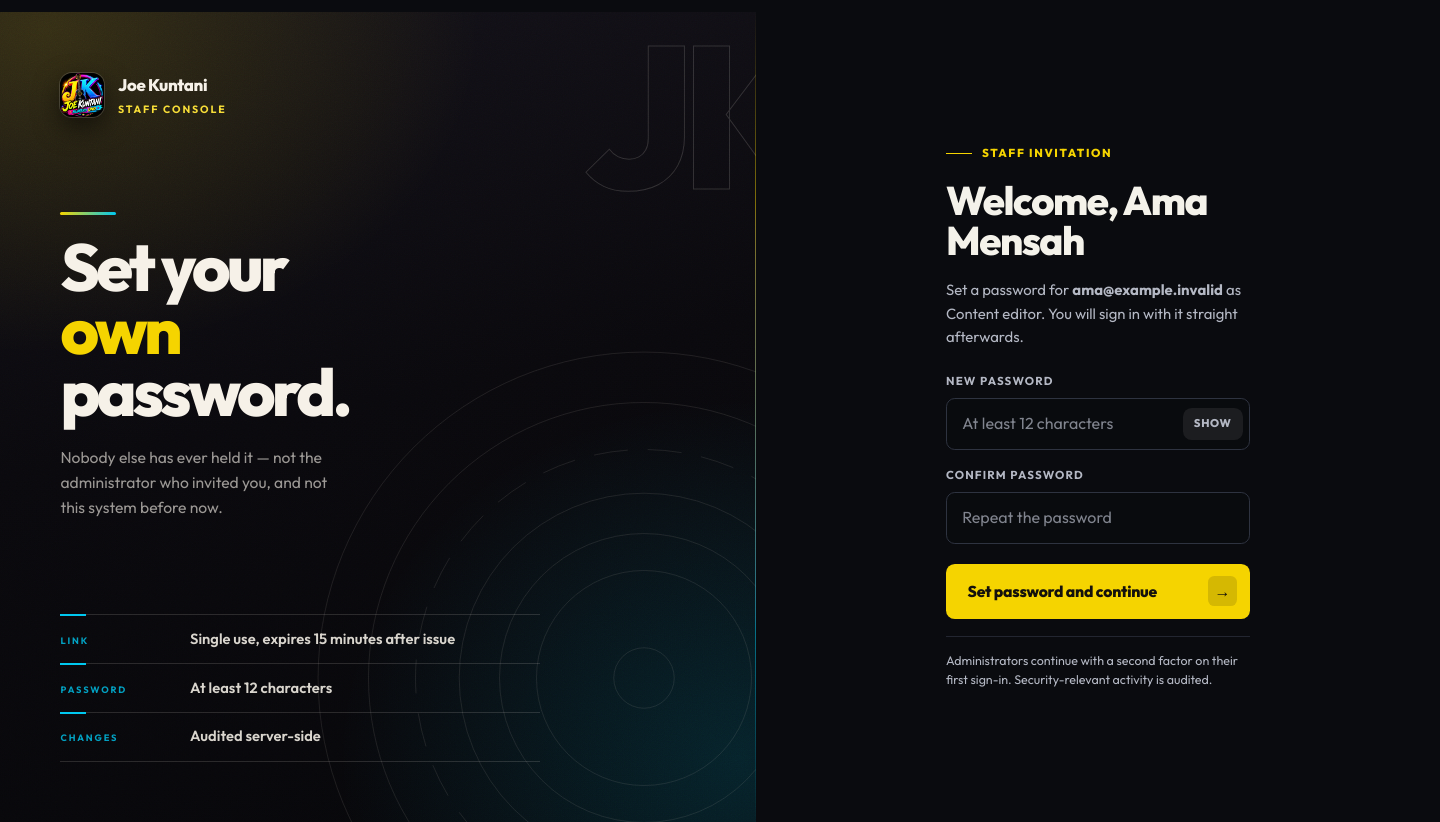
it: AcceptInviteForm › refuses to submit when the confirmation does not match
Expected: the heading "Welcome, Ama Mensah" is shown, left=946, top=180, right=1250, bottom=261
Type "correct horse battery" into the password field labelled "New password" at {"x": 1098, "y": 424}, box left=946, top=398, right=1250, bottom=450
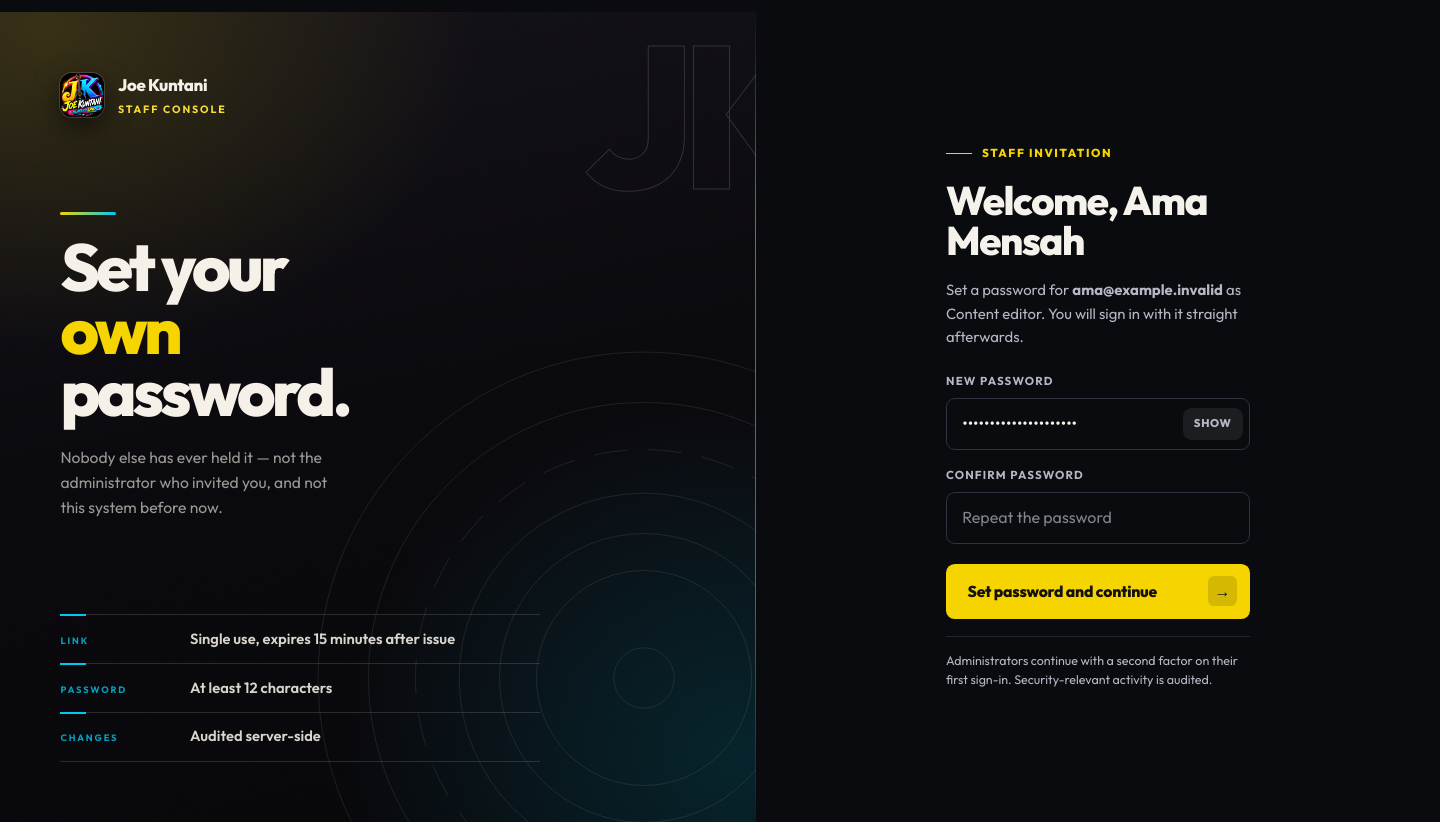
Type "a different password" into the password field labelled "Confirm password" at {"x": 1098, "y": 518}, box left=946, top=492, right=1250, bottom=544
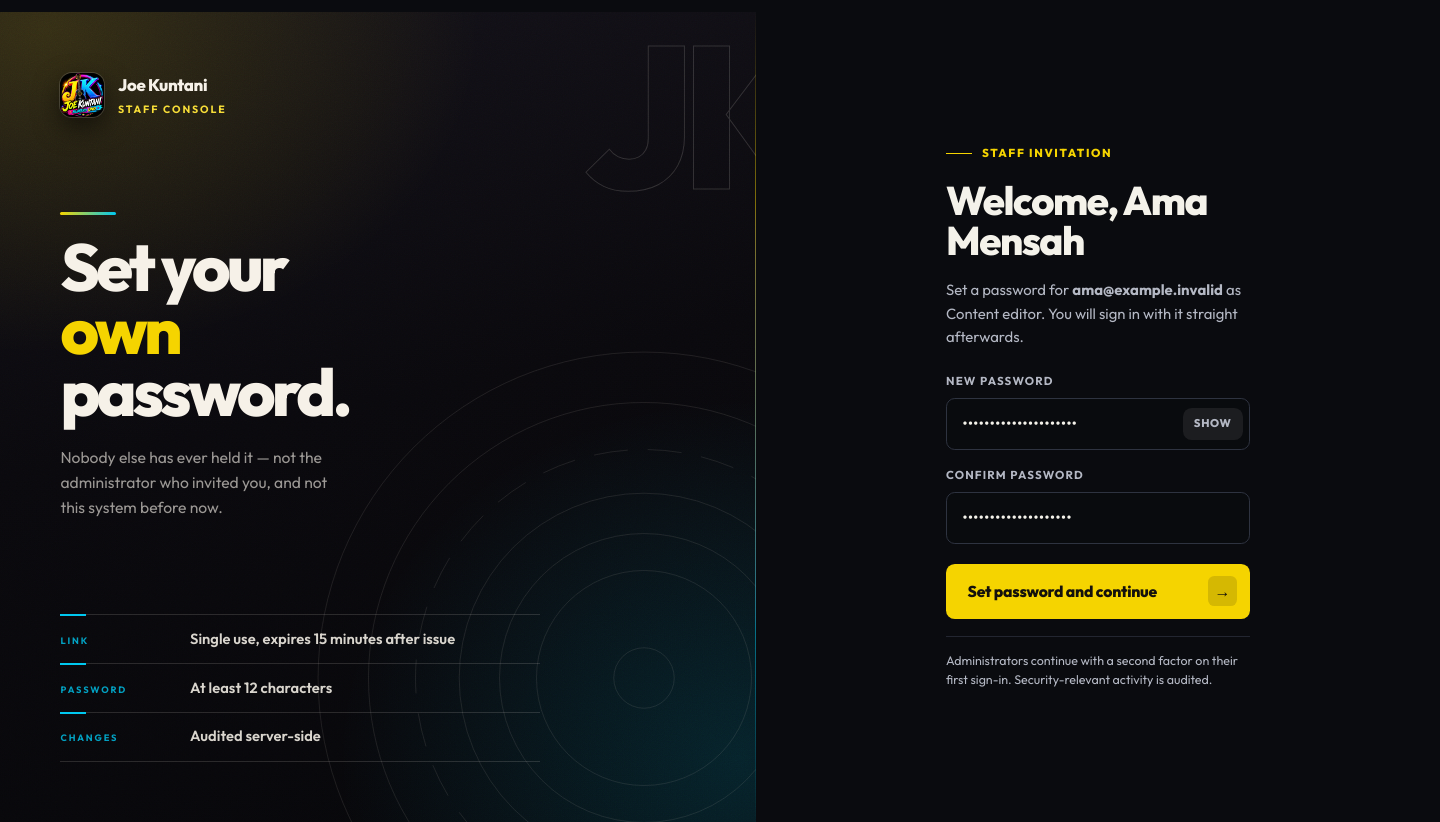
Click the button "Set password and continue →" at {"x": 1098, "y": 591}, box left=946, top=564, right=1250, bottom=619
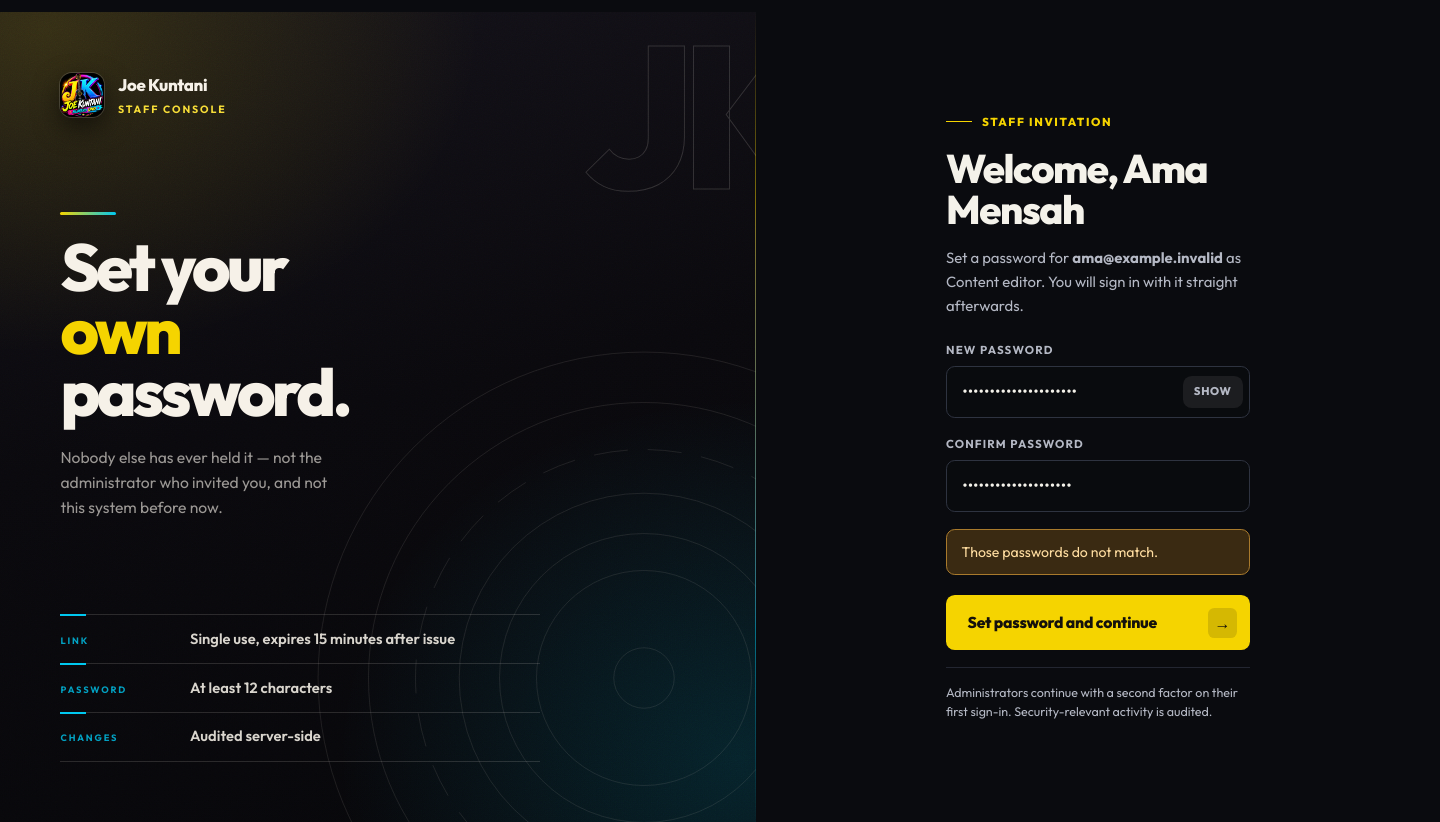
Expected: the message reads "Those passwords do not match.", left=961, top=543, right=1158, bottom=561
